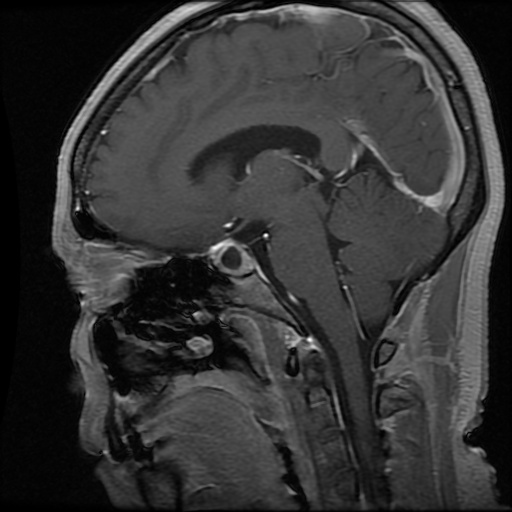pituitary: (209, 238, 256, 275)
